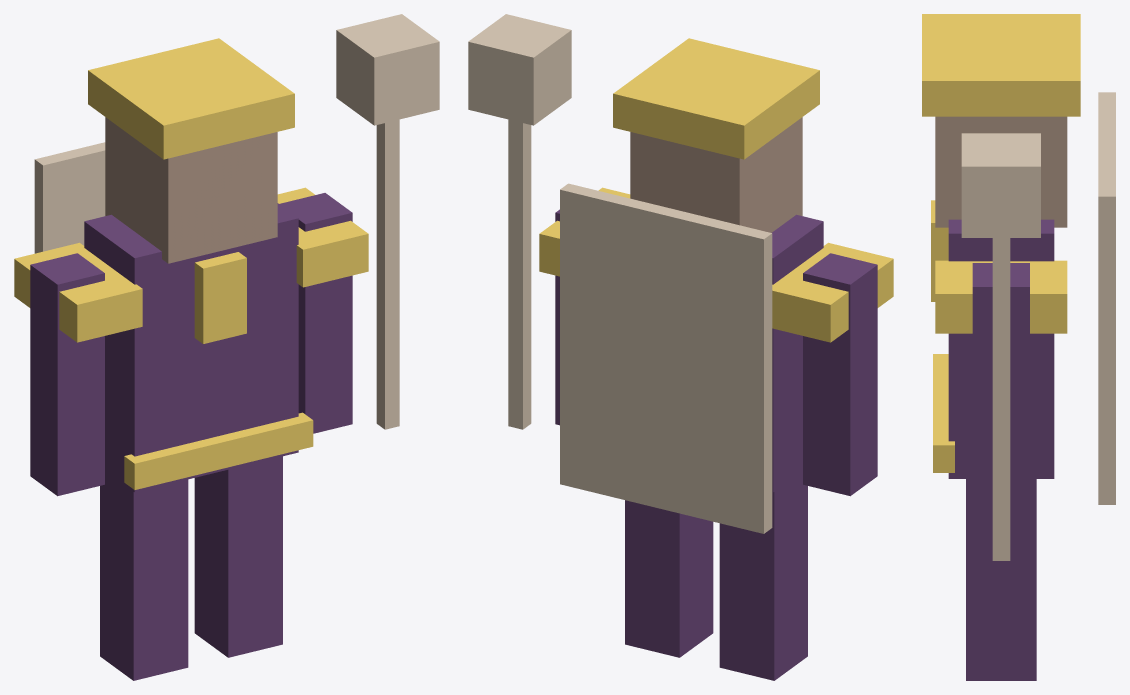
The model's file is 04_ren_echohand_engineer_of_bazaar.glb.
3 views of the same model, side by side, from view 1: azimuth 30°, elevation 25°; view 2: azimuth 150°, elevation 25°; view 3: azimuth 270°, elevation 25° (orthographic). The views are drawn at different scales.
Visible parts, largest first — view 1: Ren Echohand, Engineer of Bazaar; view 2: Ren Echohand, Engineer of Bazaar; view 3: Ren Echohand, Engineer of Bazaar.
Part boxes in pixels (left/top/right/bottom): Ren Echohand, Engineer of Bazaar: left=14, top=14, right=439, bottom=680; Ren Echohand, Engineer of Bazaar: left=468, top=14, right=893, bottom=680; Ren Echohand, Engineer of Bazaar: left=922, top=14, right=1115, bottom=680.
Bounding box in the file's own units: 1.09 × 1.58 × 0.4653.
